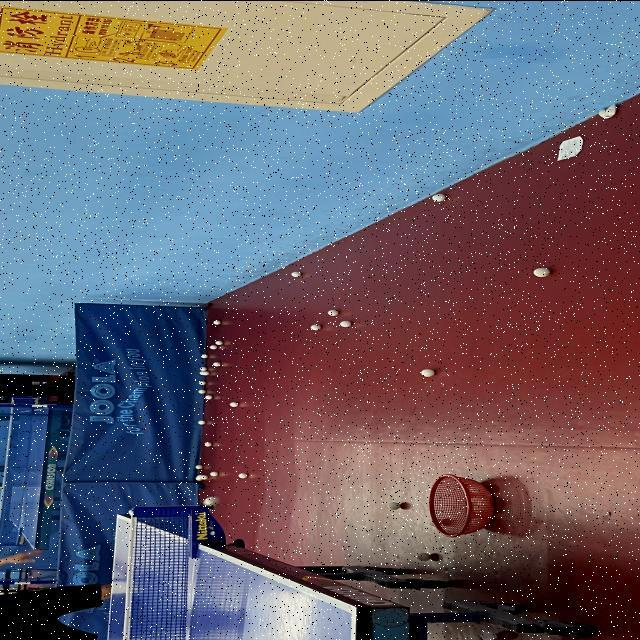ping-pong-ball: (530, 264, 554, 276), (413, 550, 437, 562), (428, 191, 450, 203), (419, 366, 439, 378), (385, 499, 405, 511), (336, 318, 356, 328), (308, 320, 324, 332), (324, 306, 342, 316), (233, 470, 250, 480), (212, 337, 228, 347), (199, 438, 214, 448), (288, 269, 306, 277), (206, 468, 222, 477), (199, 393, 217, 401), (208, 318, 224, 326), (208, 359, 224, 367), (195, 418, 209, 427), (227, 399, 241, 407), (196, 352, 212, 359), (193, 462, 206, 470), (195, 378, 207, 386)
